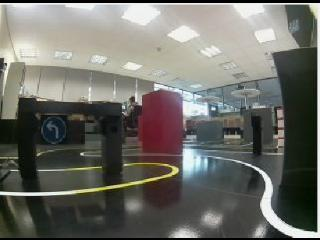left: (41, 112, 69, 144)
